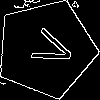V: (21, 23, 77, 72)
